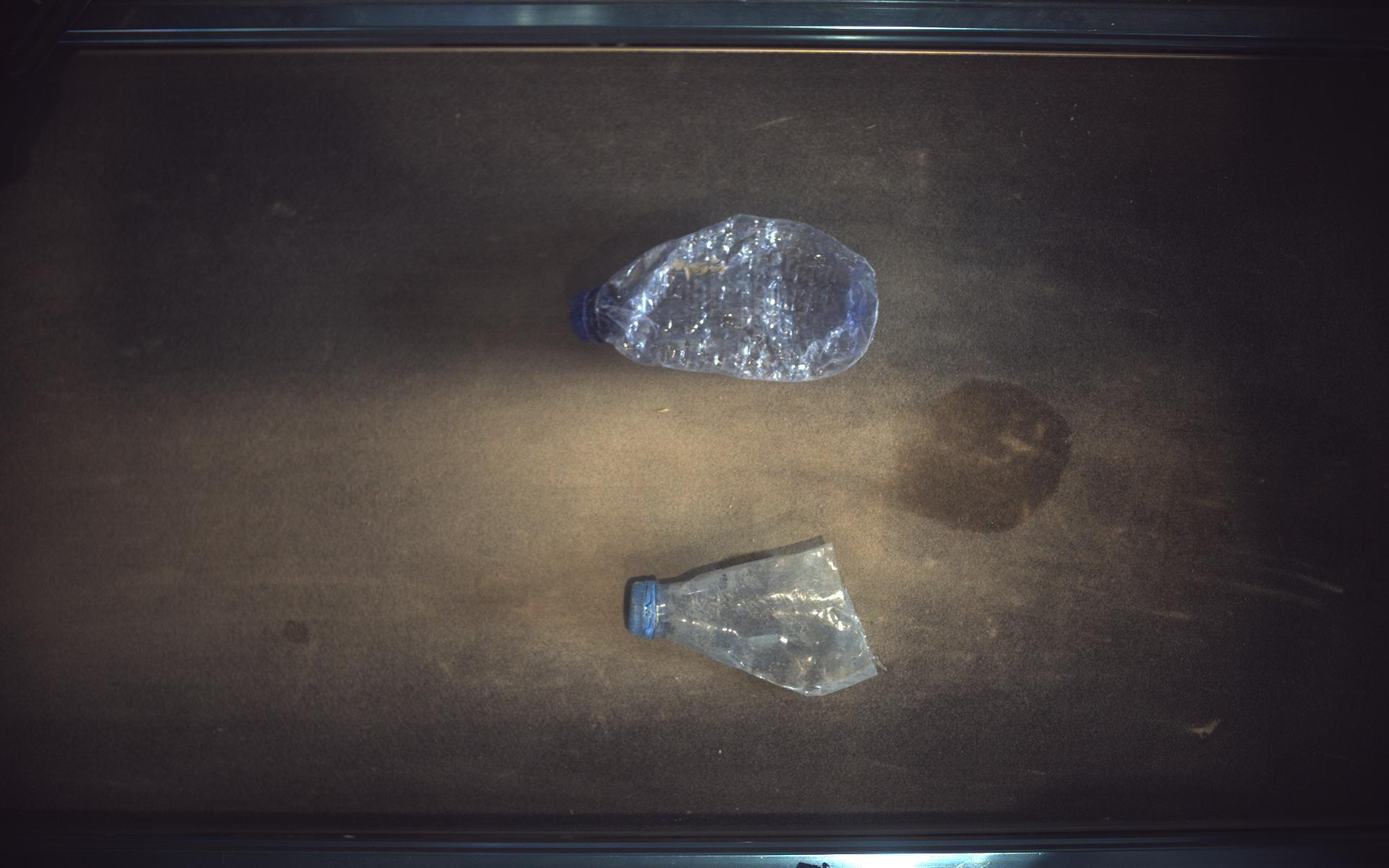general_w: (571, 214, 880, 381), (625, 537, 880, 697)
